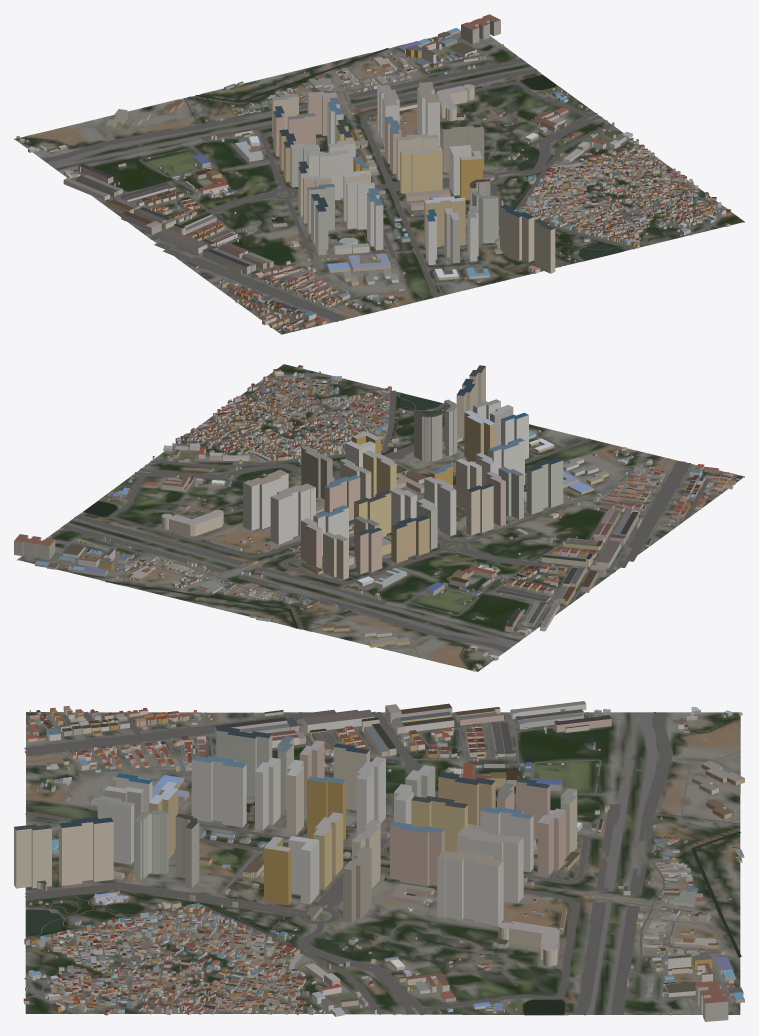
3 views of the same model, one above another, from view 1: azimuth 30°, elevation 25°; view 2: azimuth 150°, elevation 25°; view 3: azimuth 270°, elevation 25° (orthographic). The views are drawn at different scales.
Parts seen in each view (by area): view 1: buildings, ground, roads, water; view 2: buildings, ground, roads, water; view 3: buildings, ground, roads, water.
Boxes of the visible parts, x1,y1,x2,y2 form: buildings: (16, 14, 730, 333); ground: (14, 30, 744, 334); roads: (42, 34, 726, 332); water: (24, 48, 621, 260); buildings: (14, 365, 743, 671); ground: (17, 364, 744, 671); roads: (19, 370, 737, 657); water: (83, 394, 524, 668); buildings: (14, 701, 744, 1021); ground: (25, 712, 740, 1015); roads: (24, 709, 740, 1015); water: (26, 718, 741, 1014).
Bounding box in the file's own units: 1459 × 134 × 1434.
